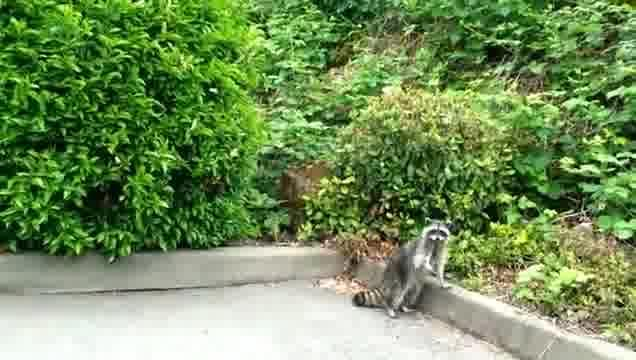raccoon: (350, 215, 455, 319)
